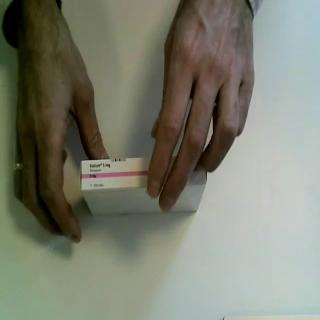valium5mg: (80, 155, 209, 220)
